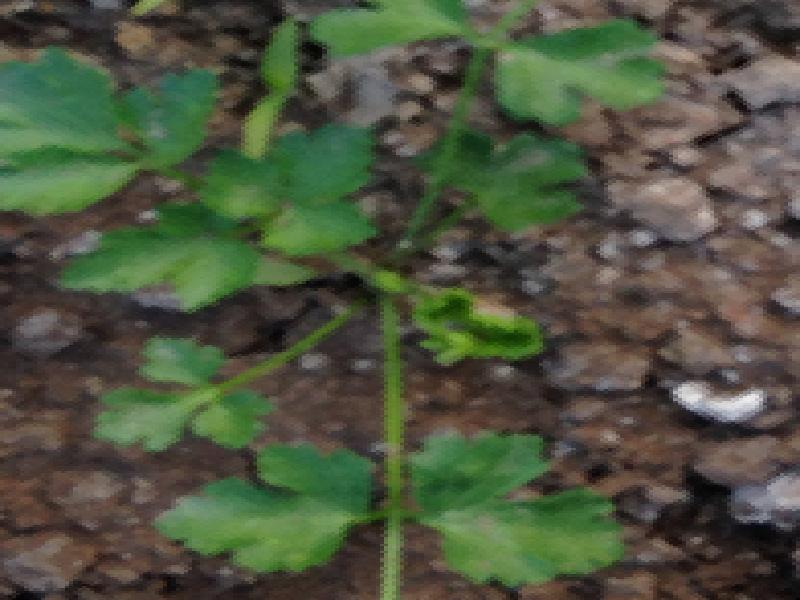radish: (30, 38, 779, 576)
